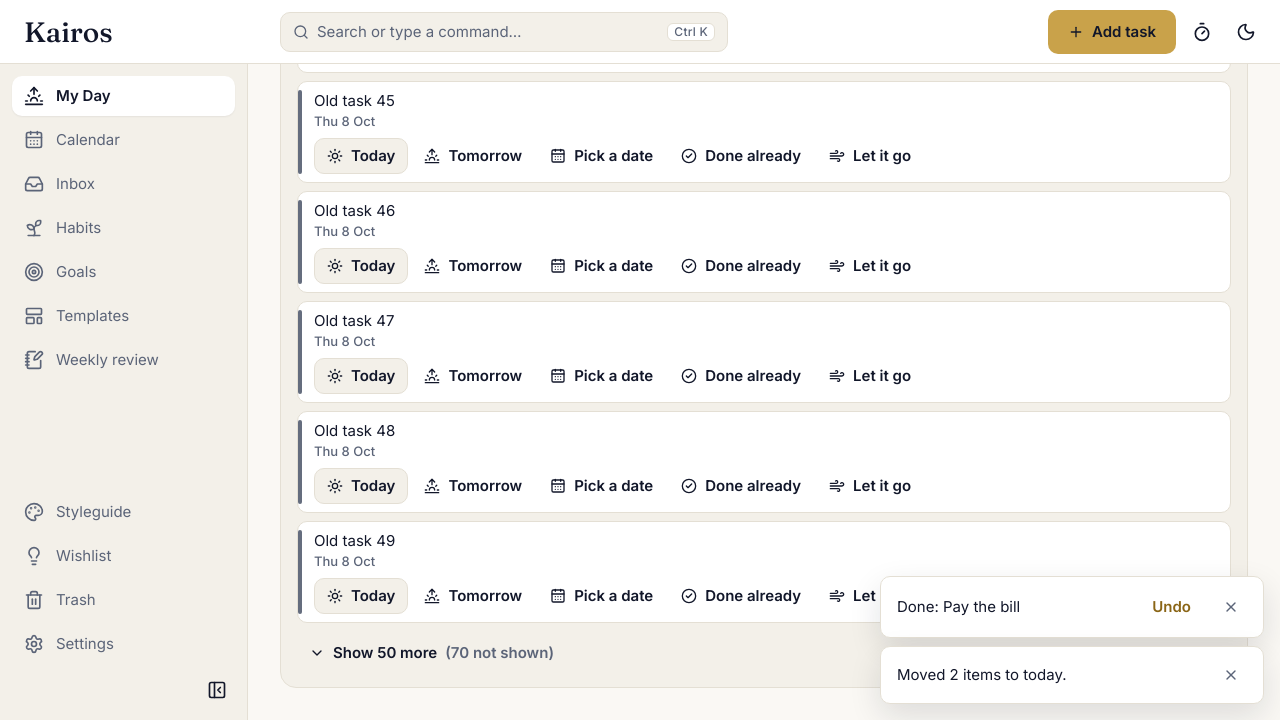
Test: A very long slipped list (P4-T01) › shows 50 at a time, so My Day stays light
The width and height of the screenshot is (1280, 720).
(page scrolled)
Click the button "Show 50 more (70 not shown)" at (432,653), box 297,635 -> 566,671
(page scrolled)
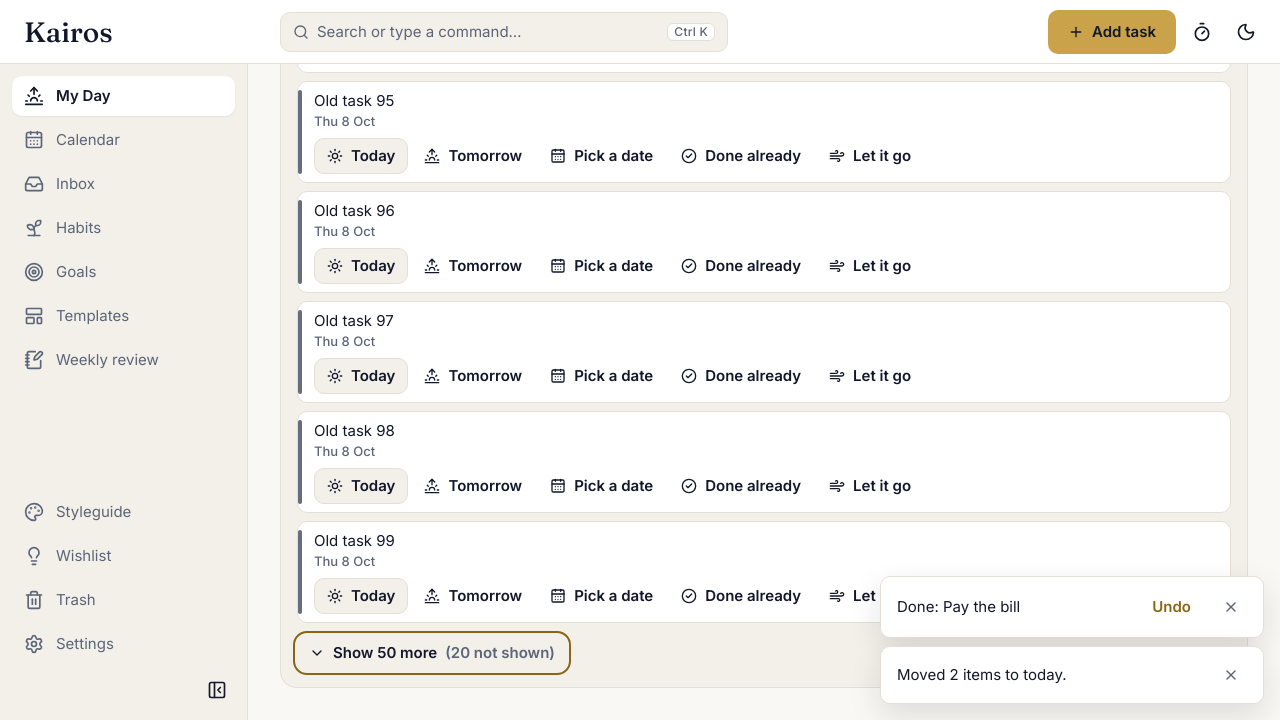
Expected: the text "Old task 99" is shown, 314,530 -> 395,552
Expected: the button "Show 50 more (20 not shown)" is shown, 297,635 -> 567,671
